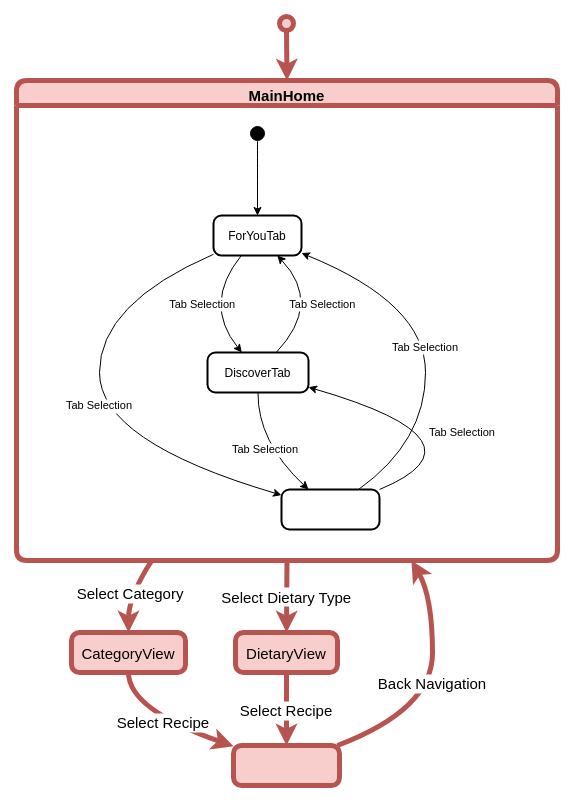
This 574x802 diagram has some shape labels left out. Each missing label, with the box of its shape:
RecipeDetail: (230, 742, 342, 788)
SettingsTab: (280, 488, 380, 530)
